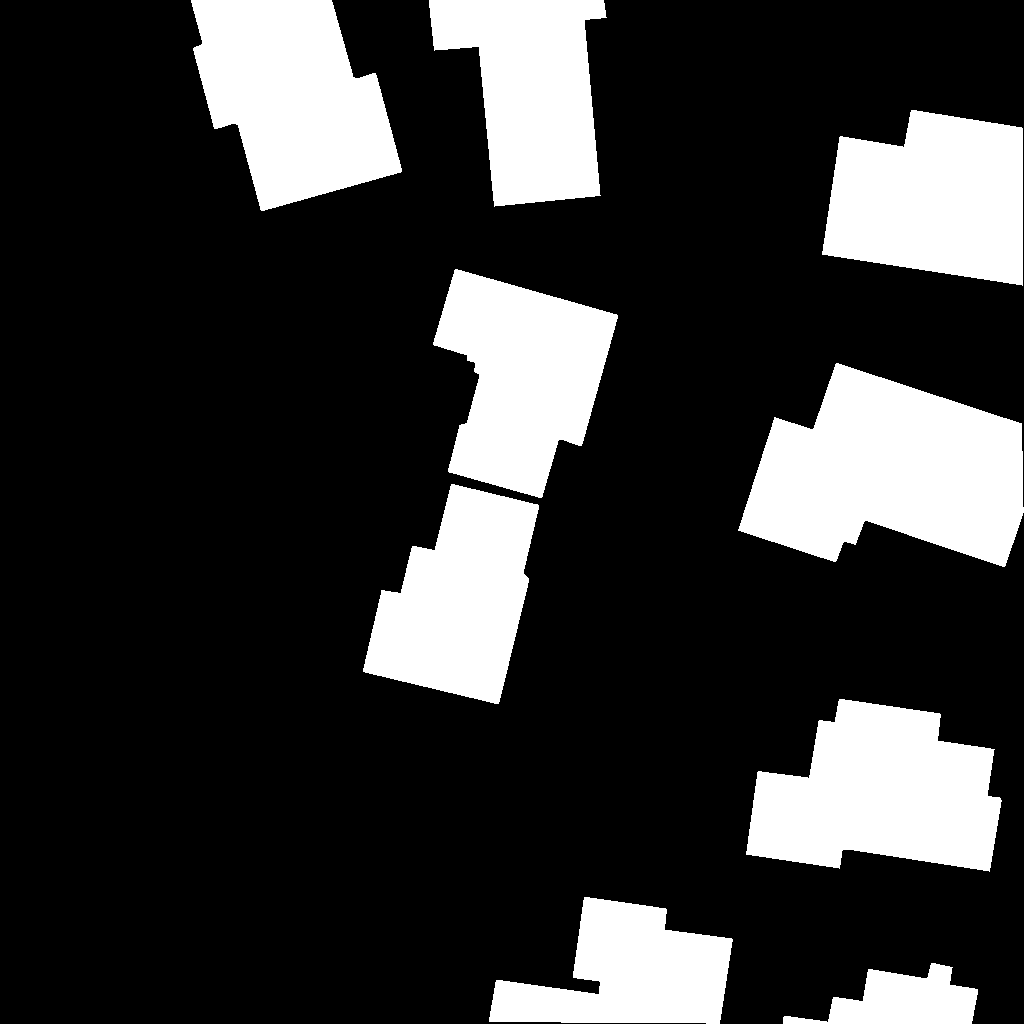building: (738, 363, 1024, 568), (191, 0, 403, 212), (746, 699, 1002, 872), (433, 269, 619, 499), (363, 484, 540, 705), (429, 0, 607, 207), (822, 110, 1024, 286), (489, 897, 734, 1024), (783, 963, 979, 1024)
